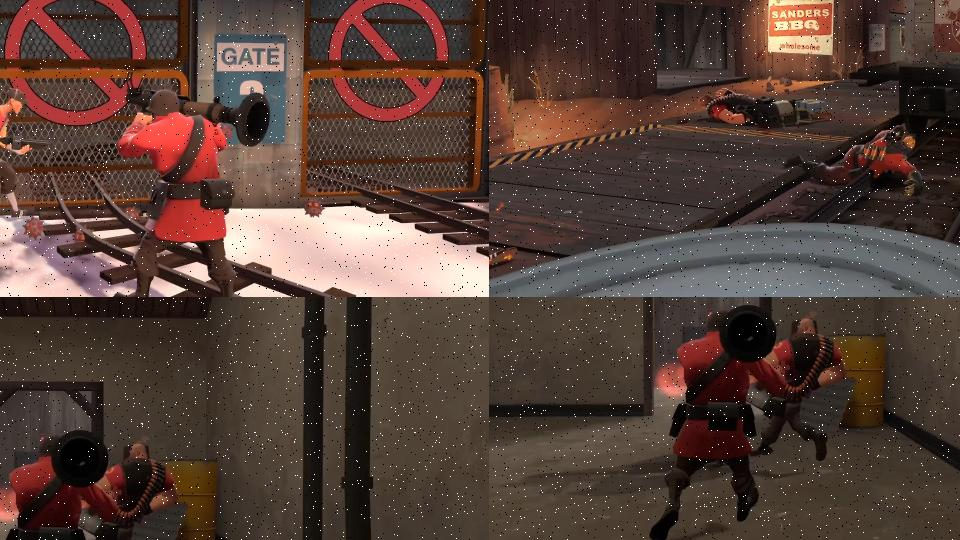Enemy: (111, 70, 271, 297), (645, 302, 779, 540), (736, 314, 850, 465), (0, 427, 111, 540), (68, 438, 182, 540), (785, 122, 926, 200), (0, 86, 52, 248), (698, 87, 801, 129)
